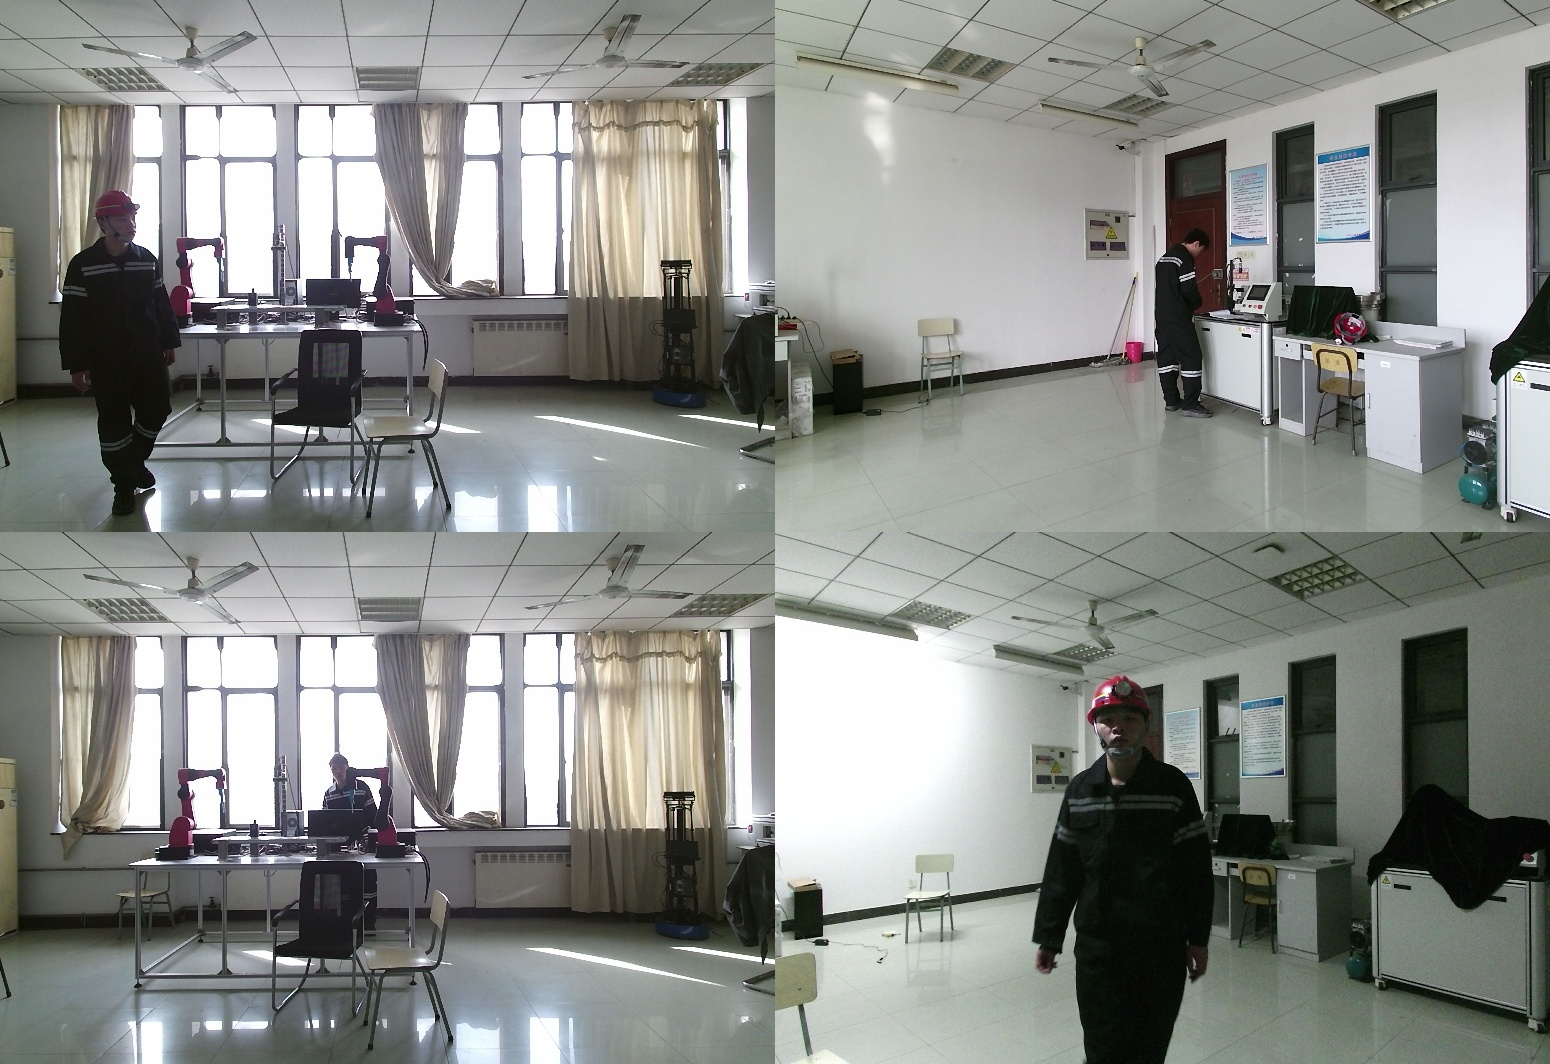person: (1032, 673, 1228, 1064), (53, 189, 183, 524), (315, 755, 381, 935), (1156, 231, 1215, 428)
